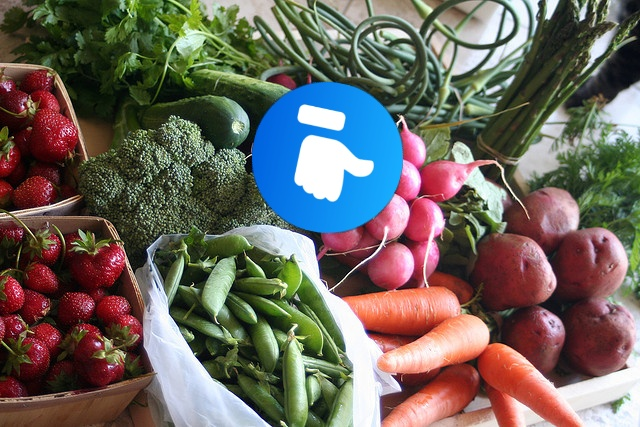like: (252, 82, 403, 233)
